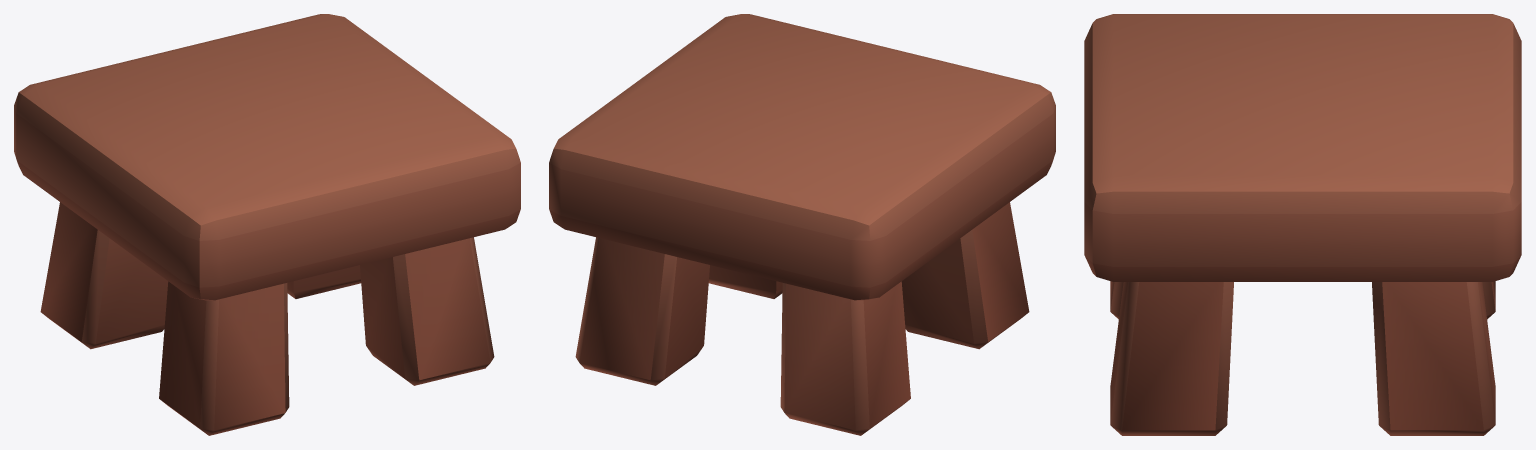
Rendered from chair_stool_wood.obj.
3 renders of one model, left to right at view 1: azimuth 30°, elevation 25°; view 2: azimuth 150°, elevation 25°; view 3: azimuth 270°, elevation 25°, orthographic. The views are drawn at different scales.
Parts seen in each view (by area): view 1: chair_stool_wood_Cube.035; view 2: chair_stool_wood_Cube.035; view 3: chair_stool_wood_Cube.035.
Part boxes in pixels (left/top/right/bottom): chair_stool_wood_Cube.035: left=14, top=14, right=520, bottom=435; chair_stool_wood_Cube.035: left=549, top=14, right=1055, bottom=435; chair_stool_wood_Cube.035: left=1084, top=14, right=1521, bottom=435.
Bounding box in the file's own units: 0.75 × 0.5 × 0.75.
1 material, 1 textured.
